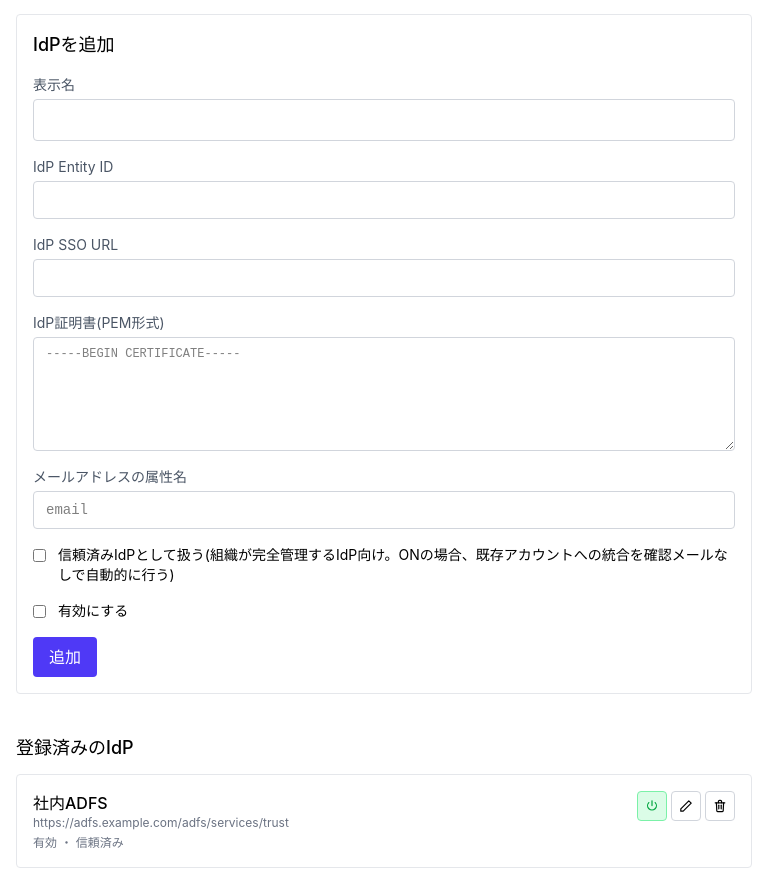
Test: AdminSAMLConfigsPage › deletes a config after confirmation
The image size is (769, 885).
(page scrolled)
Expected: the text "社内ADFS" is shown, [33,793,108,813]
Click the button named "削除": x=720, y=806 [705,791,735,821]
(page scrolled)
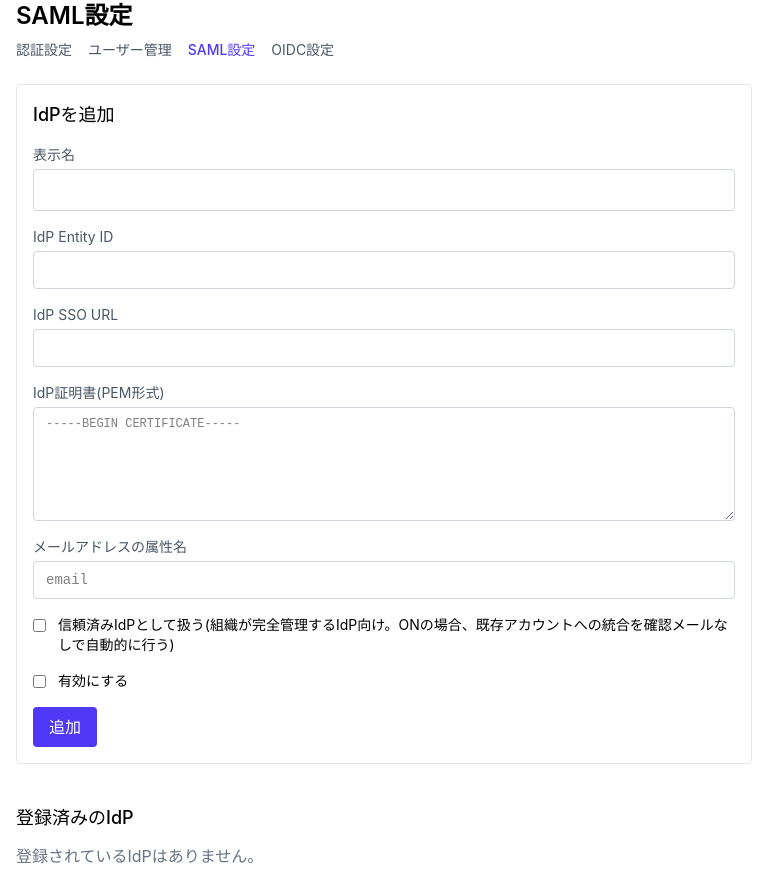
Result: the text "社内ADFS" is gone
